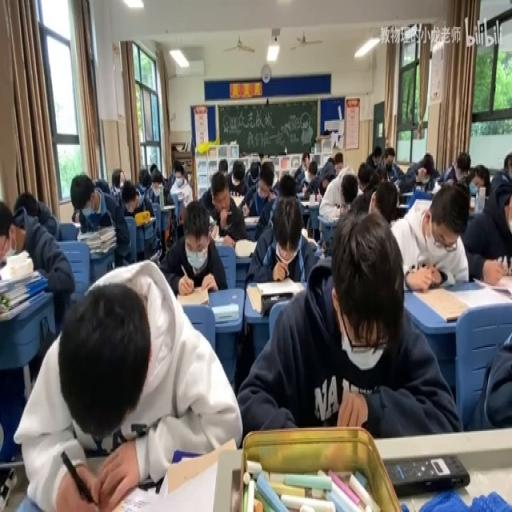calculator: (452, 282, 511, 312), (254, 274, 302, 296), (176, 286, 209, 306), (210, 300, 238, 322), (406, 196, 432, 216), (246, 284, 262, 312), (234, 238, 257, 256), (318, 208, 341, 224), (300, 230, 318, 249), (230, 193, 244, 209), (298, 196, 317, 206), (148, 248, 160, 263), (242, 215, 258, 226), (210, 224, 219, 240), (414, 183, 428, 192), (397, 203, 409, 212), (400, 191, 413, 199), (71, 219, 80, 230), (162, 204, 175, 210)
paper: (19, 258, 241, 510), (240, 209, 455, 438), (2, 195, 75, 331), (389, 180, 469, 288), (461, 159, 512, 280), (162, 198, 226, 294), (70, 172, 128, 269), (467, 317, 512, 430), (316, 164, 362, 248), (398, 152, 437, 196), (367, 179, 399, 222), (441, 150, 473, 186), (197, 168, 221, 215), (144, 166, 167, 210), (167, 159, 190, 202), (378, 145, 403, 182), (226, 161, 247, 196), (292, 156, 309, 192), (350, 193, 372, 219), (471, 166, 490, 196), (364, 144, 382, 169), (357, 164, 373, 192), (258, 162, 274, 189), (278, 174, 296, 196), (121, 189, 136, 212), (111, 166, 125, 190), (248, 160, 261, 184), (93, 176, 110, 194), (138, 168, 150, 189), (336, 165, 350, 181), (502, 151, 511, 175), (307, 164, 317, 180), (218, 158, 228, 173), (319, 179, 328, 195), (326, 156, 335, 170), (423, 161, 432, 175), (260, 150, 270, 160)
person: (386, 454, 470, 496), (261, 292, 293, 314), (138, 476, 160, 490), (427, 269, 443, 287), (320, 239, 326, 253), (226, 208, 232, 222)
